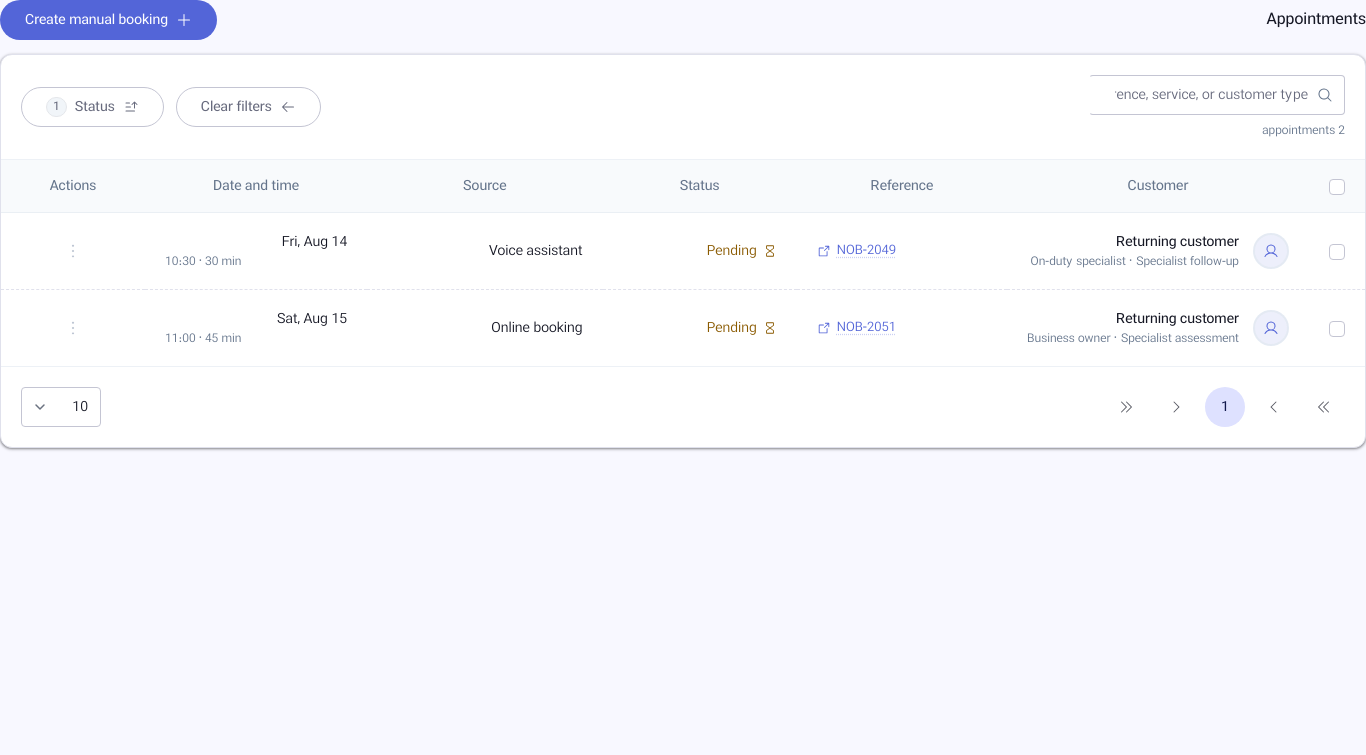
Test: reservation operations › filters stable reservations and prevents a manual-booking conflict
Check: the text "2 appointments" is shown, box [1262, 122, 1345, 139]
Check: the button named "First page" is disabled, box [1303, 387, 1345, 427]
Type "assessment" into the search field. click: (1217, 95)
box: [1089, 75, 1345, 115]
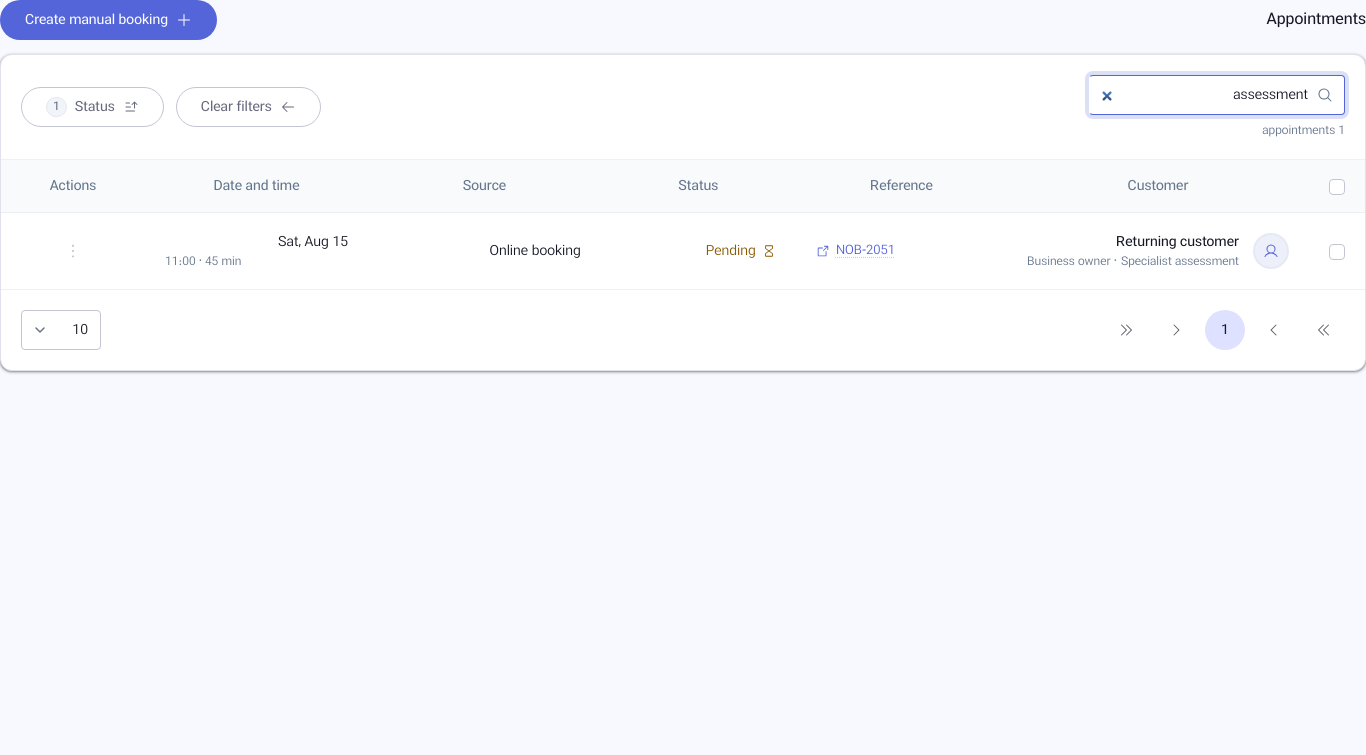
Check: the text "1 appointments" is shown, box [1262, 122, 1345, 139]
Click the button "Create manual booking". click: click(109, 20)
box: [0, 0, 217, 40]
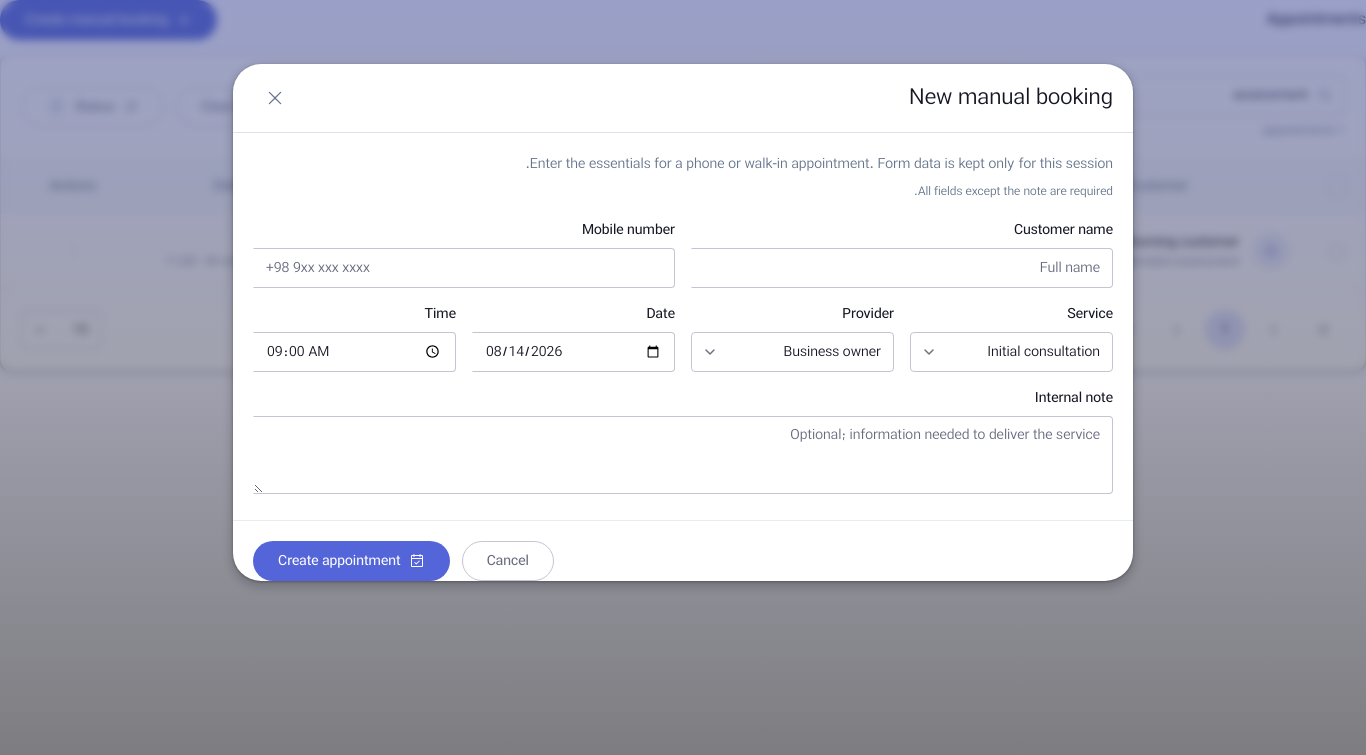
Check: the element "New manual booking" is shown, box [233, 64, 1133, 581]
Type "Sample customer" into the field labelled "Customer name". click: (902, 268)
box: [691, 248, 1113, 288]
Type "09120000000" into the field labelled "Mobile number". click: (464, 268)
box: [253, 248, 675, 288]
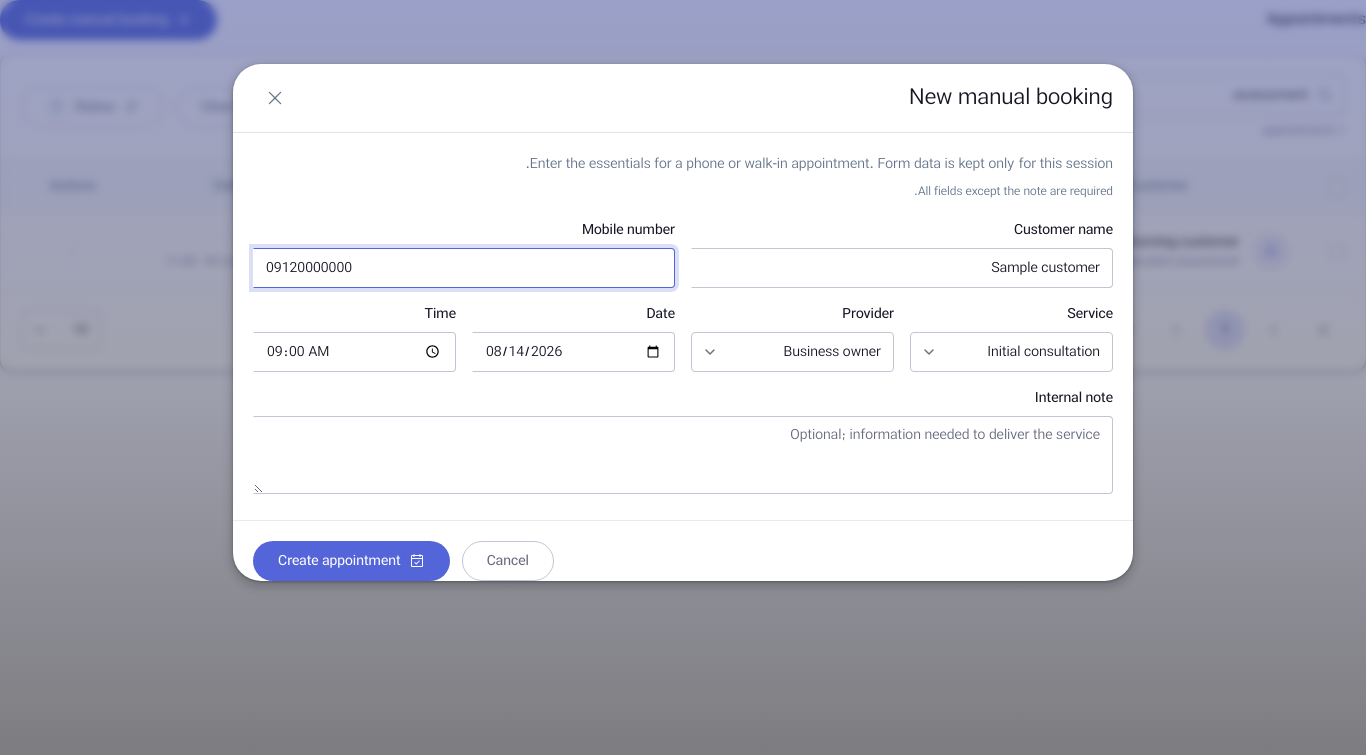
Replace the text in the time field labelled "Time" with "09:15". click: (354, 352)
box: [253, 332, 456, 372]
Click the button "Create appointment". click: click(351, 561)
box: [253, 541, 450, 581]
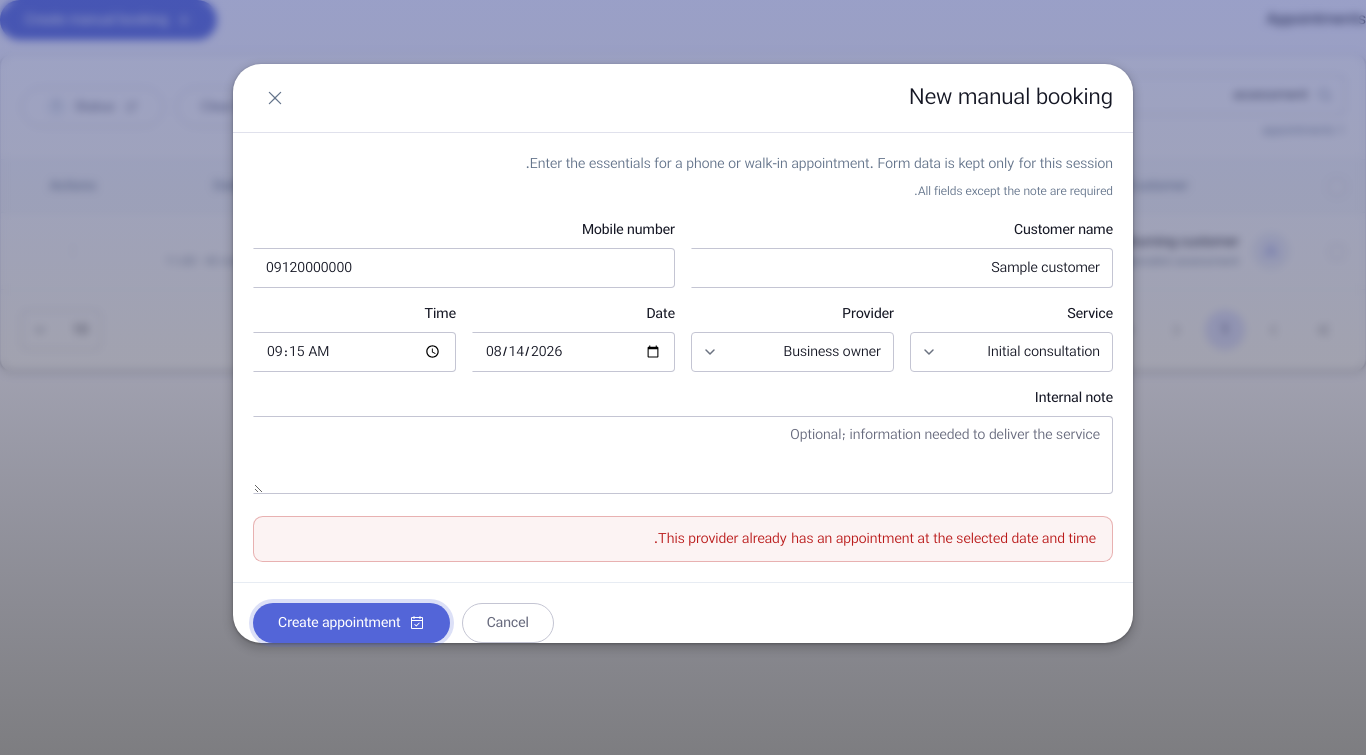
Check: the message shows "already has an appointment", box [654, 529, 1096, 549]
Replace the text in the time field labelled "Time" with "14:00". click: (354, 352)
box: [253, 332, 456, 372]
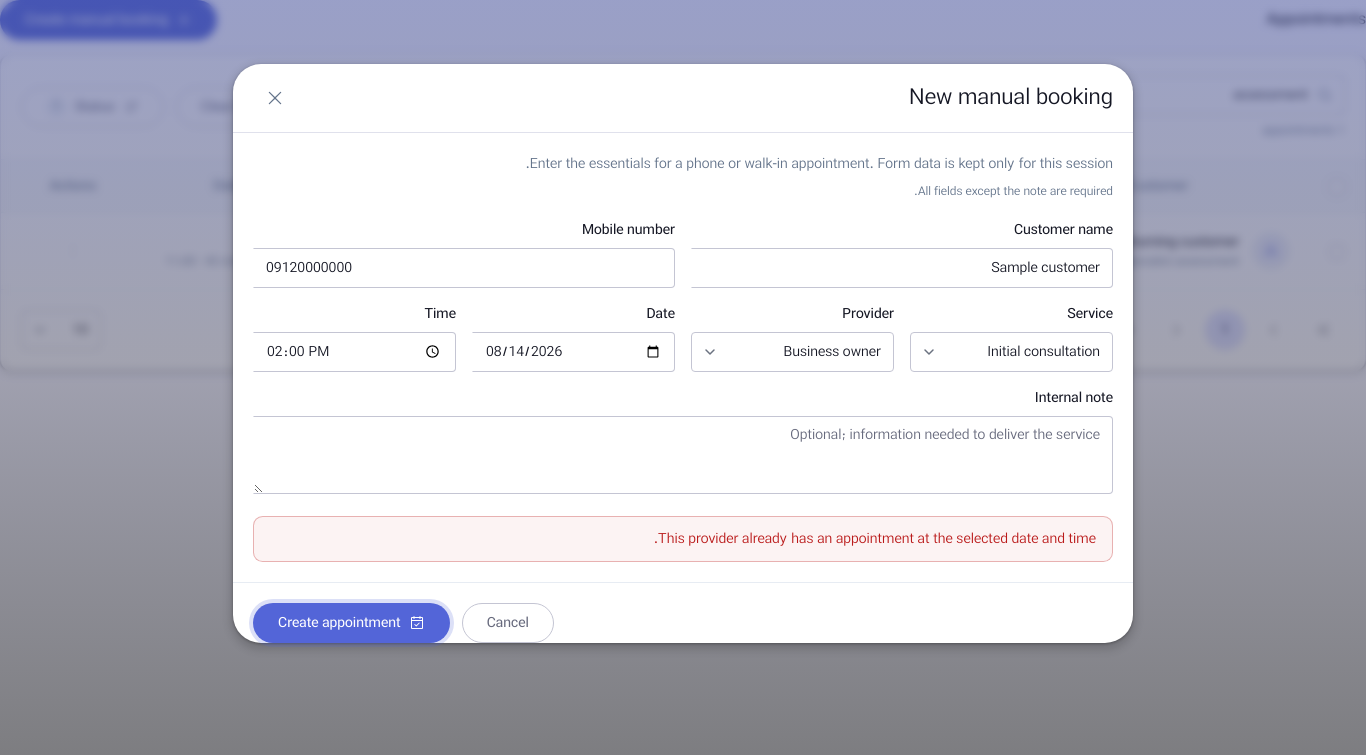
Click the button "Create appointment". click: click(351, 623)
box: [253, 603, 450, 643]
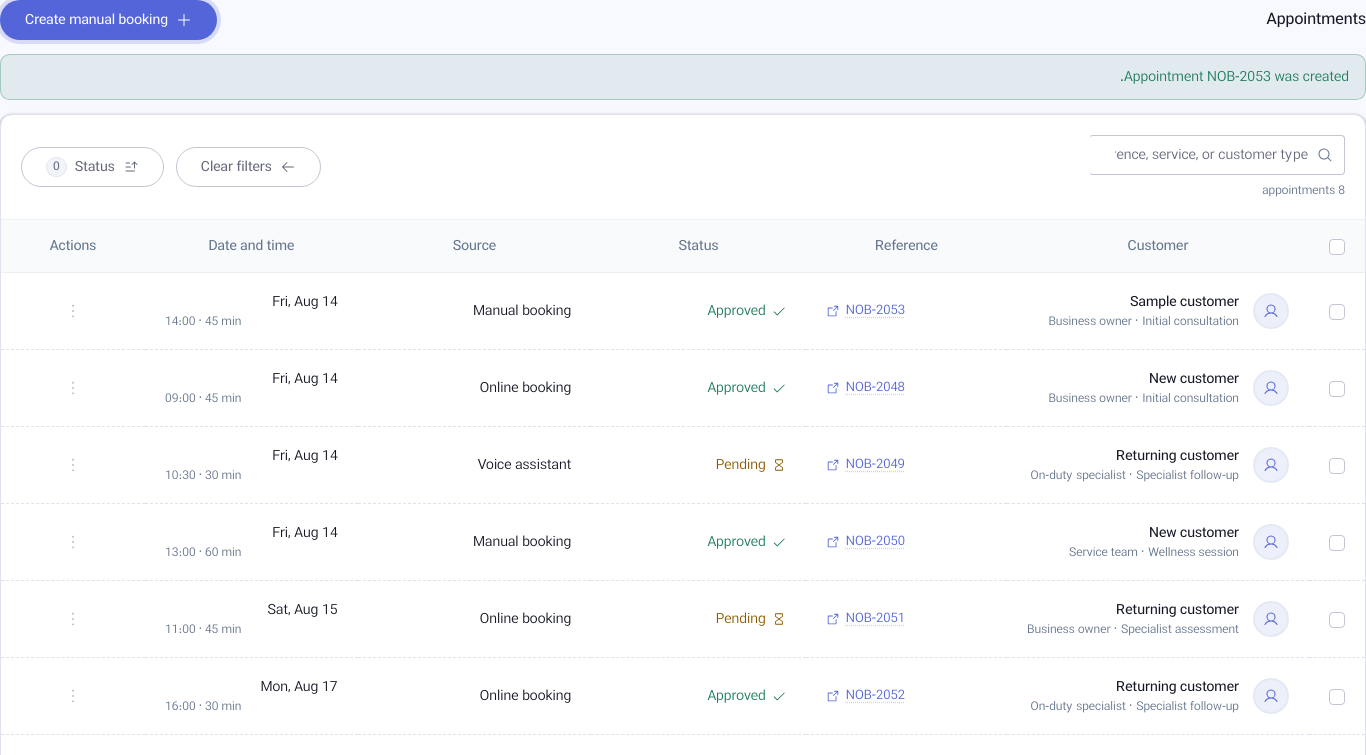
Check: the text "Appointment NOB-2053 was created." is shown, box [0, 54, 1365, 100]
